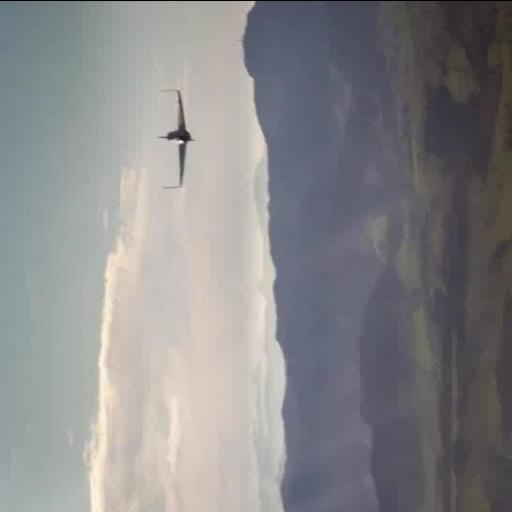uav: (154, 87, 204, 193)
